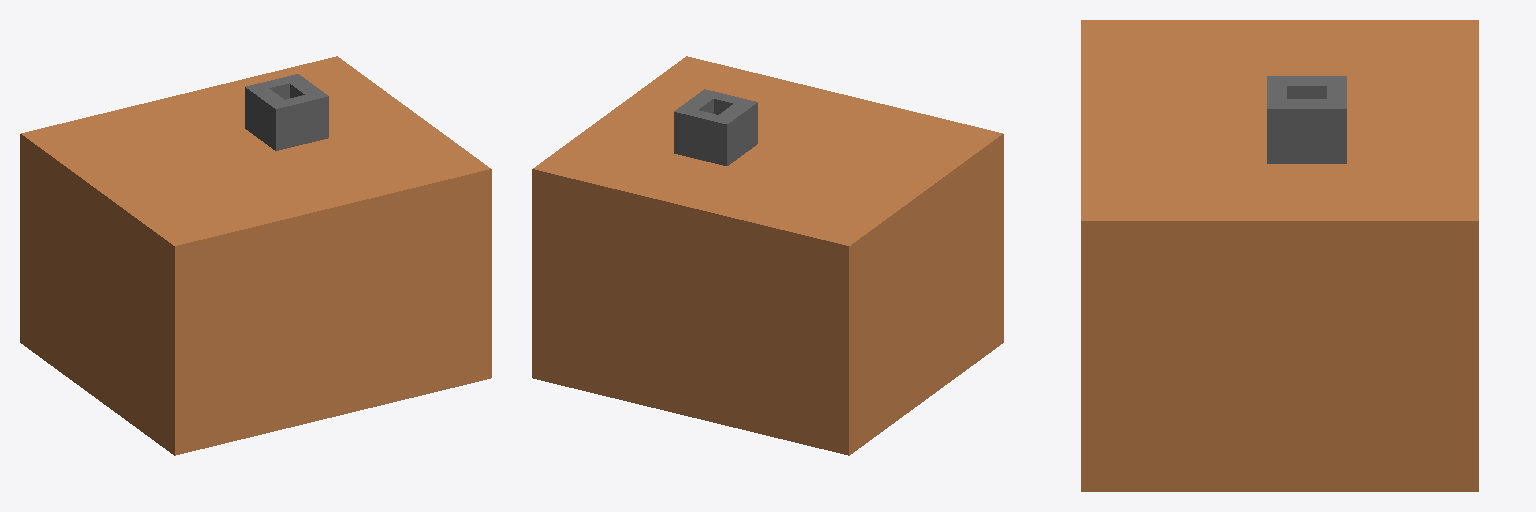
robot.urdf — peg_in_hole_scene_0077_tol08:
<?xml version="1.0"?>
<robot name="peg_in_hole_scene_0077_tol08">
  <material name="wood"><color rgba="0.82 0.56 0.35 1.0"/></material>
  <material name="hole_grey"><color rgba="0.4706 0.4706 0.4706 1.0"/></material>
  <link name="box">
    <visual>
      <origin xyz="0.000000 0.000000 0.000000" rpy="0 0 0"/>
      <geometry><box size="0.475000 0.400000 0.300000"/></geometry>
      <material name="wood"/>
    </visual>
    <collision>
      <origin xyz="0.000000 0.000000 0.000000" rpy="0 0 0"/>
      <geometry><box size="0.475000 0.400000 0.300000"/></geometry>
    </collision>
    <visual>
      <origin xyz="0.062333 0.027177 0.155000" rpy="0 0 0"/>
      <geometry><box size="0.080000 0.080000 0.010000"/></geometry>
      <material name="hole_grey"/>
    </visual>
    <collision>
      <origin xyz="0.062333 0.027177 0.155000" rpy="0 0 0"/>
      <geometry><box size="0.080000 0.080000 0.010000"/></geometry>
    </collision>
    <visual>
      <origin xyz="0.090001 0.027177 0.185000" rpy="0 0 0"/>
      <geometry><box size="0.024663 0.080000 0.050000"/></geometry>
      <material name="hole_grey"/>
    </visual>
    <collision>
      <origin xyz="0.090001 0.027177 0.185000" rpy="0 0 0"/>
      <geometry><box size="0.024663 0.080000 0.050000"/></geometry>
    </collision>
    <visual>
      <origin xyz="0.034664 0.027177 0.185000" rpy="0 0 0"/>
      <geometry><box size="0.024663 0.080000 0.050000"/></geometry>
      <material name="hole_grey"/>
    </visual>
    <collision>
      <origin xyz="0.034664 0.027177 0.185000" rpy="0 0 0"/>
      <geometry><box size="0.024663 0.080000 0.050000"/></geometry>
    </collision>
    <visual>
      <origin xyz="0.062333 0.057346 0.185000" rpy="0 0 0"/>
      <geometry><box size="0.030674 0.019663 0.050000"/></geometry>
      <material name="hole_grey"/>
    </visual>
    <collision>
      <origin xyz="0.062333 0.057346 0.185000" rpy="0 0 0"/>
      <geometry><box size="0.030674 0.019663 0.050000"/></geometry>
    </collision>
    <visual>
      <origin xyz="0.062333 -0.002991 0.185000" rpy="0 0 0"/>
      <geometry><box size="0.030674 0.019663 0.050000"/></geometry>
      <material name="hole_grey"/>
    </visual>
    <collision>
      <origin xyz="0.062333 -0.002991 0.185000" rpy="0 0 0"/>
      <geometry><box size="0.030674 0.019663 0.050000"/></geometry>
    </collision>
    <inertial>
      <mass value="500"/>
      <friction value="1.0"/>
      <inertia ixx="1000.0" ixy="0.0" ixz="0.0" iyy="1000.0" iyz="0.0" izz="1000.0"/>
    </inertial>
  </link>
</robot>

--- Facts derived from the render (not from the file) ---
The picture shows the robot from 3 angles, left to right: view 1: azimuth 30°, elevation 25°; view 2: azimuth 150°, elevation 25°; view 3: azimuth 270°, elevation 25°; orthographic projection.
Model peg_in_hole_scene_0077_tol08 with 1 links and 0 joints (none), rooted at box, posed all joints at 0.
Visible links, largest first — view 1: box; view 2: box; view 3: box.
Link boxes in pixels (x1,y1,x2,y2): box: [20, 56, 491, 455]; box: [532, 56, 1003, 455]; box: [1081, 20, 1478, 491].
Bounding box of the posed robot: 0.475 × 0.4 × 0.36 m (x, y, z).
Geometry: primitives only (box / cylinder / sphere), no mesh files.
